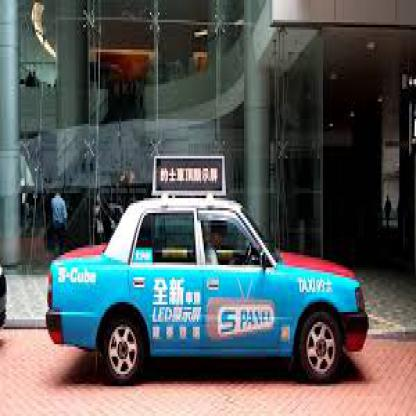taxi: (44, 147, 373, 392)
